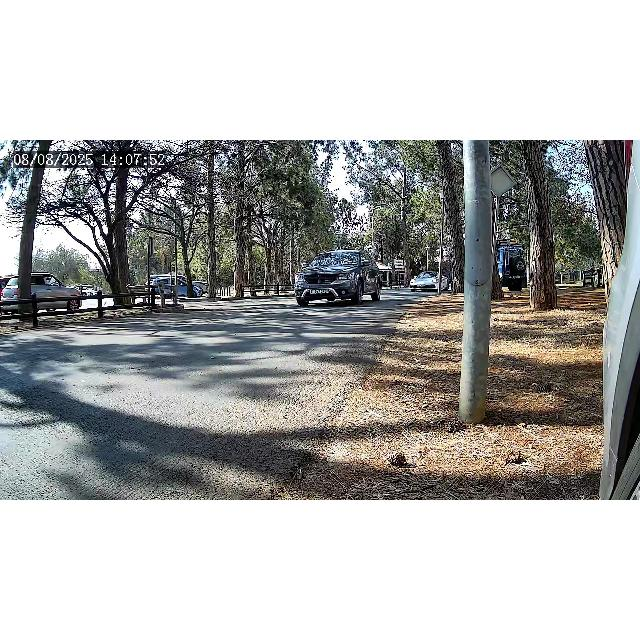car: (292, 248, 382, 306), (0, 272, 84, 312), (148, 278, 204, 300), (409, 270, 449, 292)
plate: (310, 288, 330, 294)
